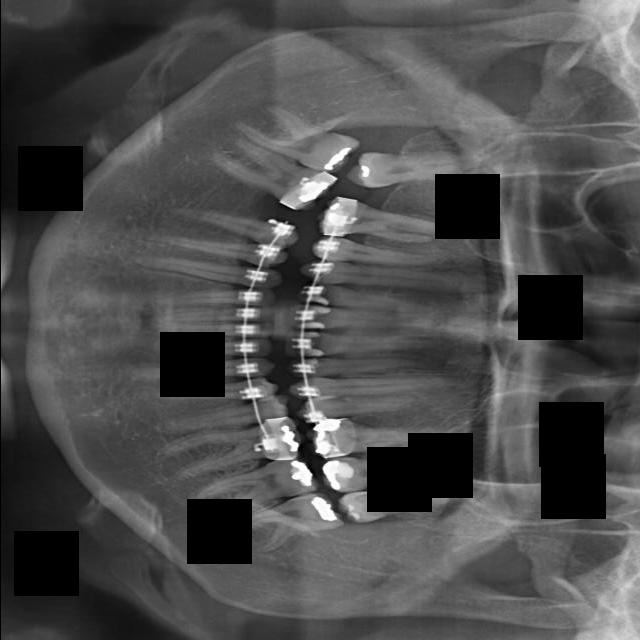3M ESPE Implant: (351, 145, 460, 189)
AGS Medikal Implant: (190, 461, 314, 523)
AMerOss Implant: (176, 418, 295, 475)
Anthogyr Implant: (168, 401, 282, 431)
Bicon Implant: (175, 381, 273, 401)
BioHorizons Implant: (144, 361, 265, 379)
BioLife Implant: (153, 338, 262, 359)
Biomet 3i Implant: (166, 319, 266, 341)
Blue Sky Bio Implant: (159, 306, 268, 323)
Camlog Implant: (172, 292, 263, 305)
Caries: (301, 357, 423, 378)
Composite filling: (159, 251, 272, 290)
Cowellmedi Implant: (167, 225, 279, 266)
Crown: (172, 204, 289, 243)
DENTSPLY Implant: (320, 195, 454, 251)
Dentis Implant: (217, 134, 329, 216)
Dentium Implant: (241, 95, 358, 176)
Filling: (318, 236, 431, 270)
Frontier Implant: (319, 257, 430, 296)
Hiossen Implant: (299, 375, 430, 396)
Implant: (297, 308, 418, 327)
Implant Direct: (304, 279, 418, 321)
Keystone Dental Implant: (299, 328, 420, 357)
MIS Implant: (317, 393, 430, 414)
Maxilla: (305, 419, 428, 458)
Megagen Implant: (325, 460, 442, 483)
Neodent Implant: (356, 489, 455, 523)
Neoss Implant: (231, 493, 340, 559)
